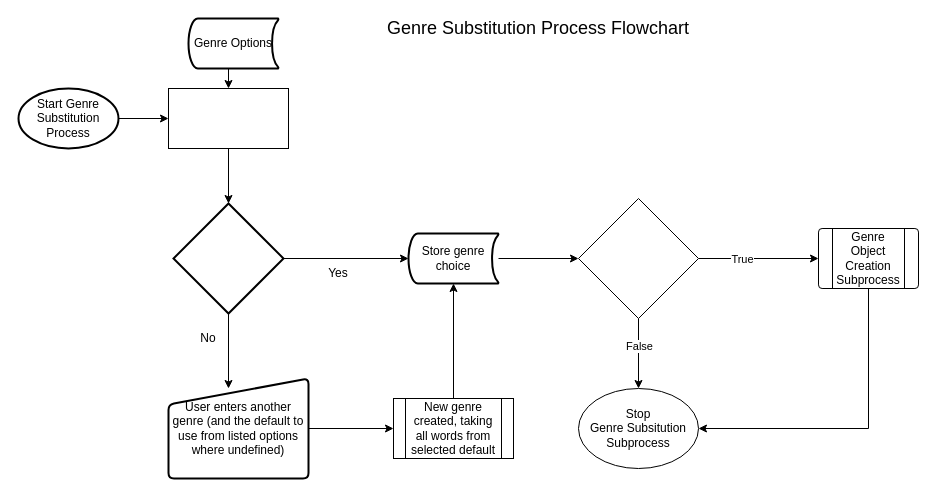
The diagram is 936 pixels wide and 496 high, and some of its shapes have lost their labels. Here are the shapes that lost their labels. From the top down, the box of each, then its label:
(168, 88, 288, 148): Retrieve current selected genre and genre options
(172, 202, 284, 314): Is genre among current?
(578, 198, 698, 318): IF User Wants To Add Genre Words
